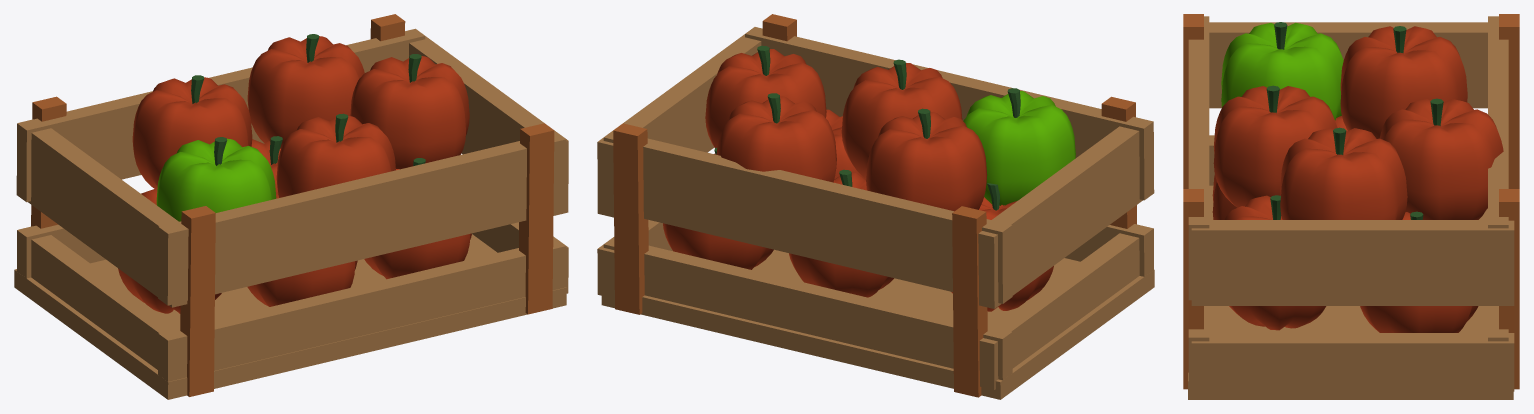
The model's file is PaprikaCrate_01.fbx.
3 views of the same model, side by side, from view 1: azimuth 30°, elevation 25°; view 2: azimuth 150°, elevation 25°; view 3: azimuth 270°, elevation 25° (orthographic). The views are drawn at different scales.
Parts seen in each view (by area): view 1: pCube106, pCube112, pCube103, pCube113, pSphere90, pSphere89, pCube105, pSphere87, pCube111, pSphere91, pSphere88, pCube107 (+9 smaller); view 2: pCube105, pCube102, pCube103, pCube113, pSphere87, pCube106, pCube111, pSphere91, pSphere89, pSphere88, pCube114, pCube108 (+10 smaller); view 3: pCube114, pCube110, pSphere89, pSphere90, pSphere87, pSphere88, pSphere91, pCube103, pCube113, pCube106, pCube105, pSphere82 (+8 smaller).
Boxes of the visible parts, box(x1,y1,x2,y2) form: pCube106: box(158, 132, 566, 305); pCube112: box(158, 239, 566, 381); pCube103: box(14, 234, 566, 399); pCube113: box(20, 119, 187, 307); pSphere90: box(350, 56, 469, 169); pSphere89: box(247, 36, 364, 148); pCube105: box(16, 28, 425, 202); pSphere87: box(132, 77, 252, 188); pCube111: box(19, 226, 178, 369); pSphere91: box(156, 138, 276, 221); pSphere88: box(276, 116, 395, 197); pCube107: box(519, 123, 554, 314); pCube105: box(603, 131, 1012, 303); pCube102: box(603, 237, 1012, 380); pCube103: box(601, 249, 1154, 399); pCube113: box(978, 126, 1142, 308); pSphere87: box(866, 112, 987, 211); pCube106: box(745, 27, 1154, 200); pCube111: box(979, 233, 1139, 389); pSphere91: box(963, 91, 1075, 205); pSphere89: box(716, 96, 836, 182); pSphere88: box(841, 63, 962, 178); pCube114: box(597, 34, 761, 217); pCube108: box(613, 123, 648, 314); pCube114: box(1191, 220, 1514, 305); pCube110: box(1191, 333, 1514, 391); pSphere89: box(1379, 99, 1503, 219); pSphere90: box(1280, 128, 1407, 219); pSphere87: box(1340, 26, 1467, 138); pSphere88: box(1213, 86, 1337, 207); pSphere91: box(1221, 22, 1343, 120); pCube103: box(1188, 185, 1513, 399); pCube113: box(1209, 22, 1487, 108); pCube106: box(1188, 16, 1209, 300); pCube105: box(1488, 16, 1508, 228); pSphere82: box(1360, 212, 1478, 332).
Size of the model in its own units: 6.41 by 3.35 by 4.39.
